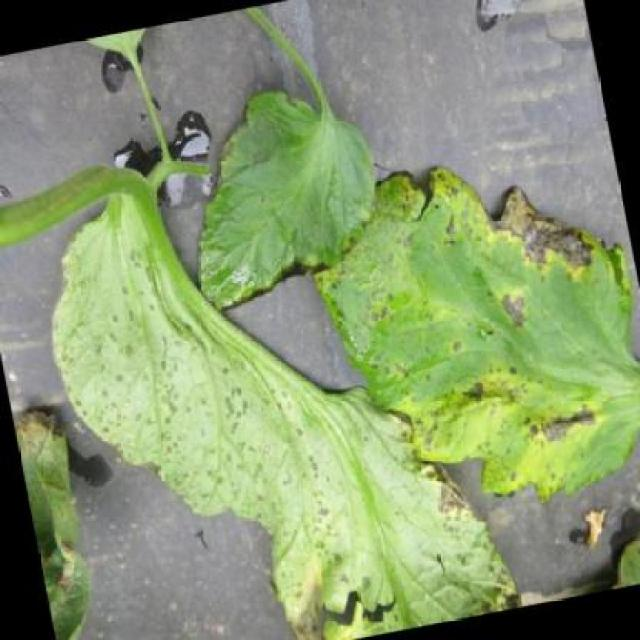Tomato leaf bacterial spot: (286, 137, 639, 525)
